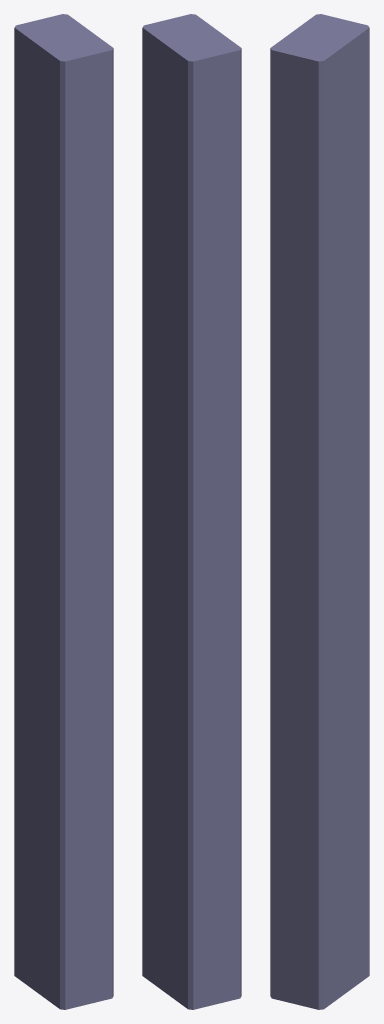
File: Wall_Column.fbx
3 views of the same model, side by side, from view 1: azimuth 30°, elevation 25°; view 2: azimuth 210°, elevation 25°; view 3: azimuth 330°, elevation 25° (orthographic).
Parts seen in each view (by area): view 1: Column; view 2: Column; view 3: Column.
Boxes of the visible parts, x1,y1,x2,y2 form: Column: (14,14,113,1009); Column: (142,14,241,1009); Column: (270,14,369,1009).
Size of the model in its own units: 15 by 255 by 24.
